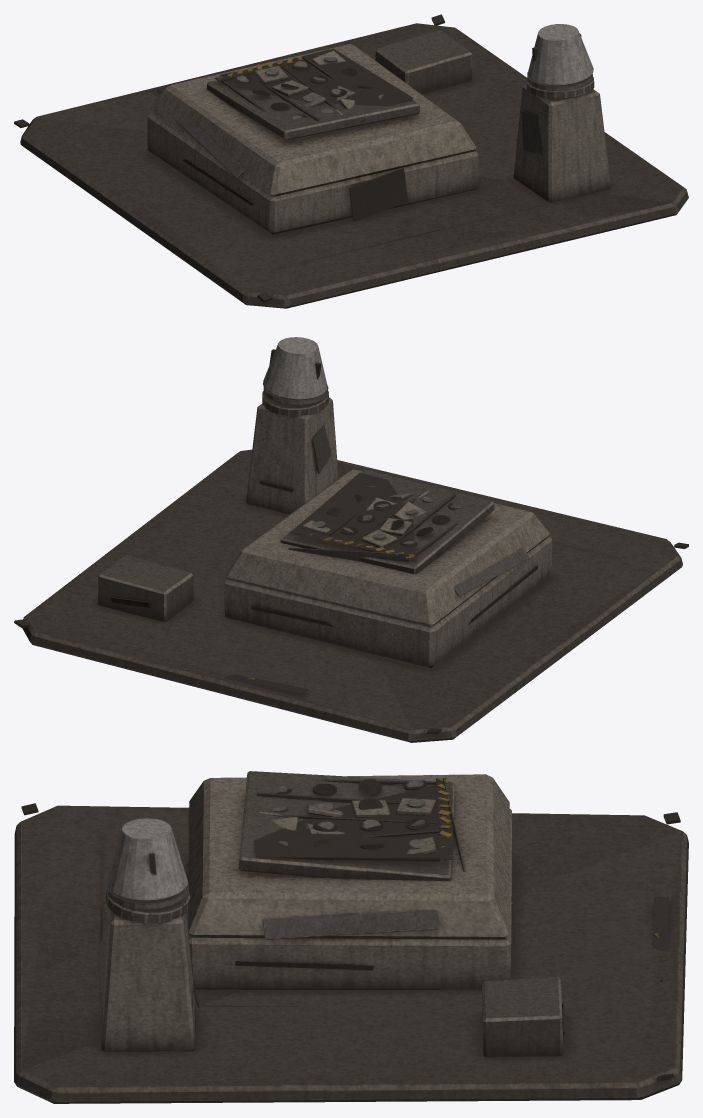
File: ord_sanctum_wreck.fbx
3 renders of one model, top to bottom at view 1: azimuth 30°, elevation 25°; view 2: azimuth 150°, elevation 25°; view 3: azimuth 270°, elevation 25°, orthographic. The views are drawn at different scales.
Visible parts, largest first — view 1: base_bar, launcher_bar; view 2: base_bar, launcher_bar; view 3: base_bar, launcher_bar.
Boxes of the visible parts, box(x1,y1,x2,y2) form: base_bar: box(14, 14, 688, 308); launcher_bar: box(207, 48, 419, 140); base_bar: box(14, 337, 688, 742); launcher_bar: box(280, 470, 494, 573); base_bar: box(14, 774, 688, 1103); launcher_bar: box(238, 771, 465, 880).
Bounding box in the file's own units: 2330 × 1034 × 2334.
Materials: 2 (2 with a texture image).
